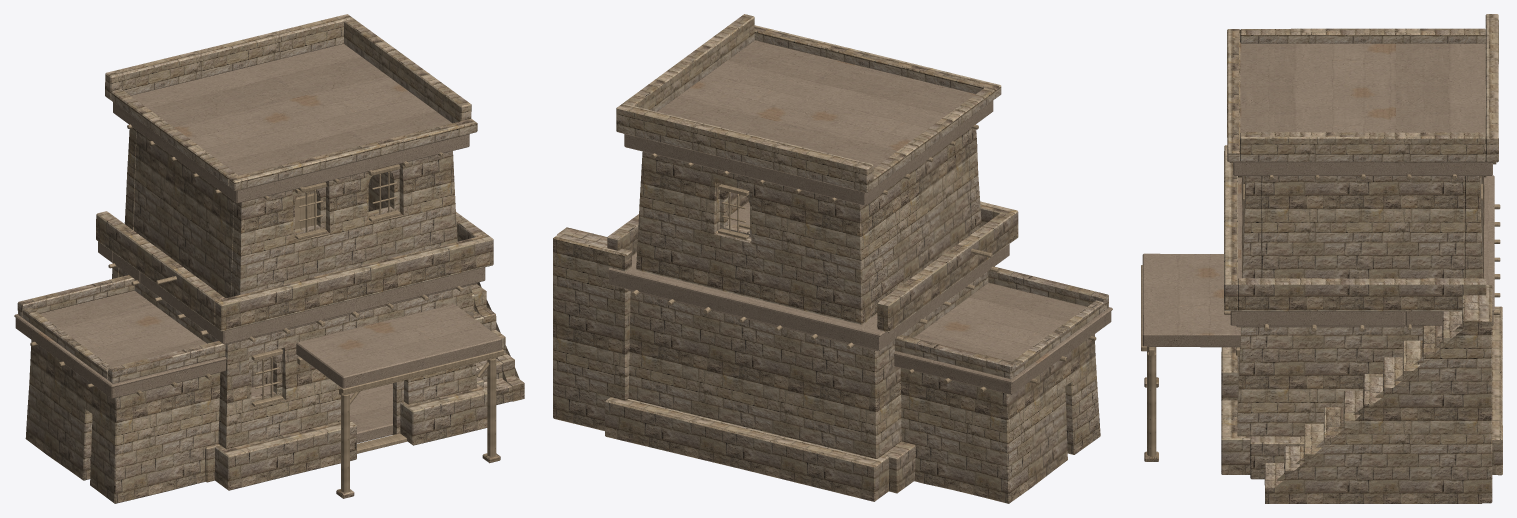
3 renders of one model, left to right at view 1: azimuth 30°, elevation 25°; view 2: azimuth 150°, elevation 25°; view 3: azimuth 270°, elevation 25°, orthographic. The views are drawn at different scales.
Parts seen in each view (by area): view 1: house; view 2: house; view 3: house.
Boxes of the visible parts, x1,y1,x2,y2 form: house: [14, 14, 524, 503]; house: [553, 14, 1112, 503]; house: [1141, 14, 1502, 503].
Bounding box in the file's own units: 11.99 × 8.58 × 8.43.
Materials: 3 (3 with a texture image).
